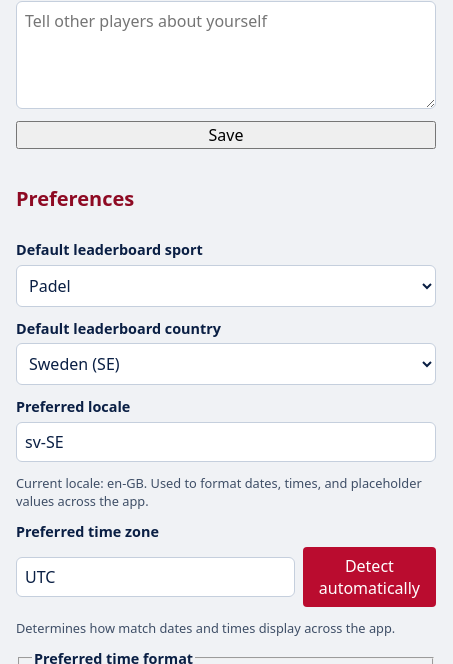
Test: ProfilePage › loads stored user settings and saves updates
(page scrolled)
Expected: the dropdown labelled "Default leaderboard country" shows "Sweden (SE)", [16,343,436,385]
Expected: the field labelled "Preferred locale" holds "sv-SE", [16,422,436,462]
Select "Disc Golf" in the dropdown labelled "Default leaderboard sport" at (226, 286), box [16,265,436,307]
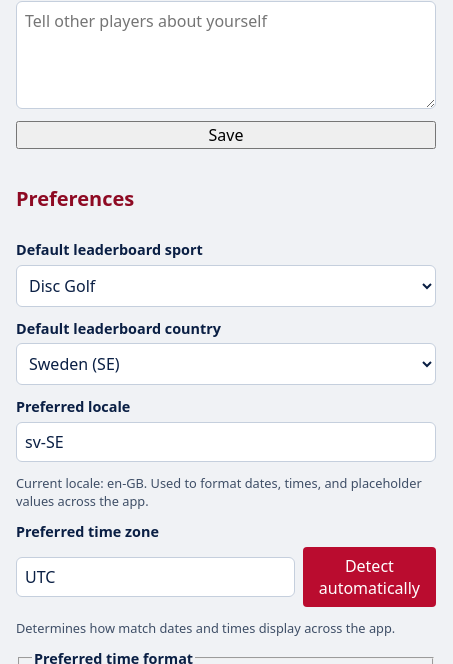
Select "No default country" in the dropdown labelled "Default leaderboard country" at (226, 364), box [16,343,436,385]
(page scrolled)
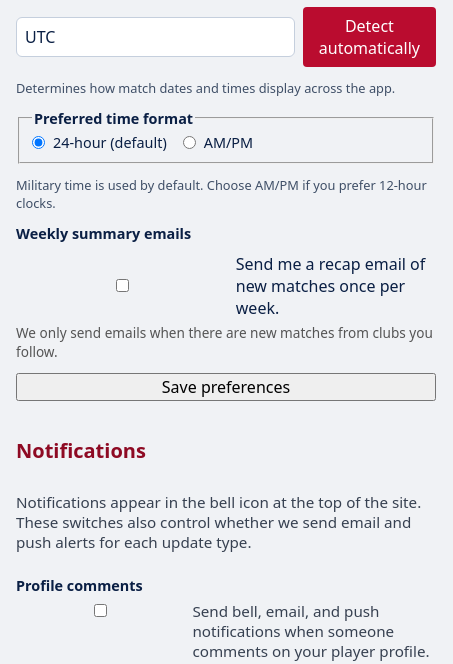
Click the checkbox labelled "Weekly summary emails" at (122, 286), box [20,279,225,292]
(page scrolled)
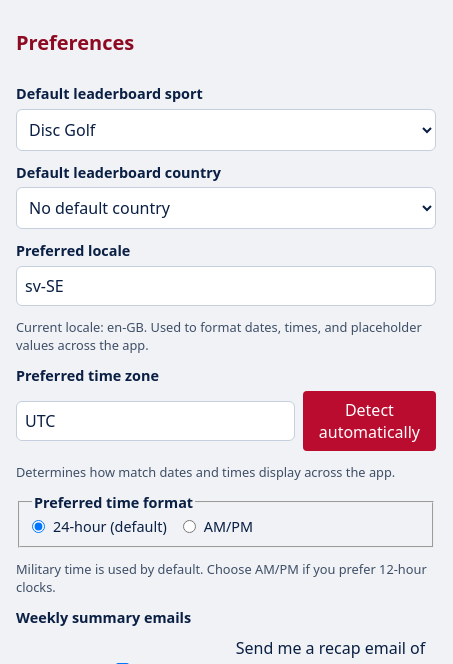
Replace the text in the field labelled "Preferred locale" with "fr-FR" at (226, 286), box [16,266,436,306]
(page scrolled)
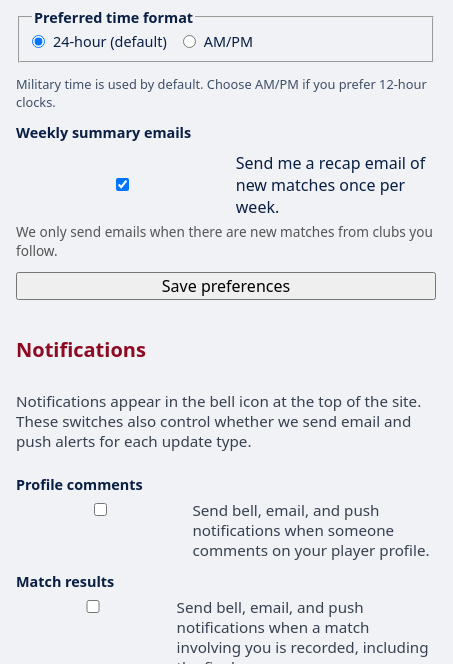
Expected: the button "Save preferences" is enabled
Click the button "Save preferences" at (226, 286), box [16,272,436,300]
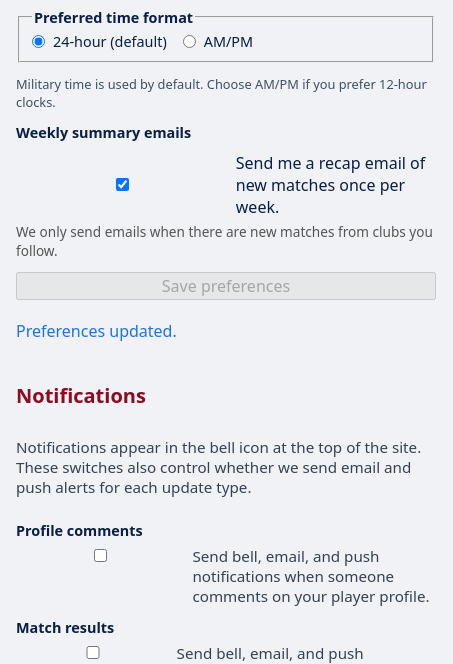
Expected: the text "Preferences updated." is shown, [16,320,177,342]
